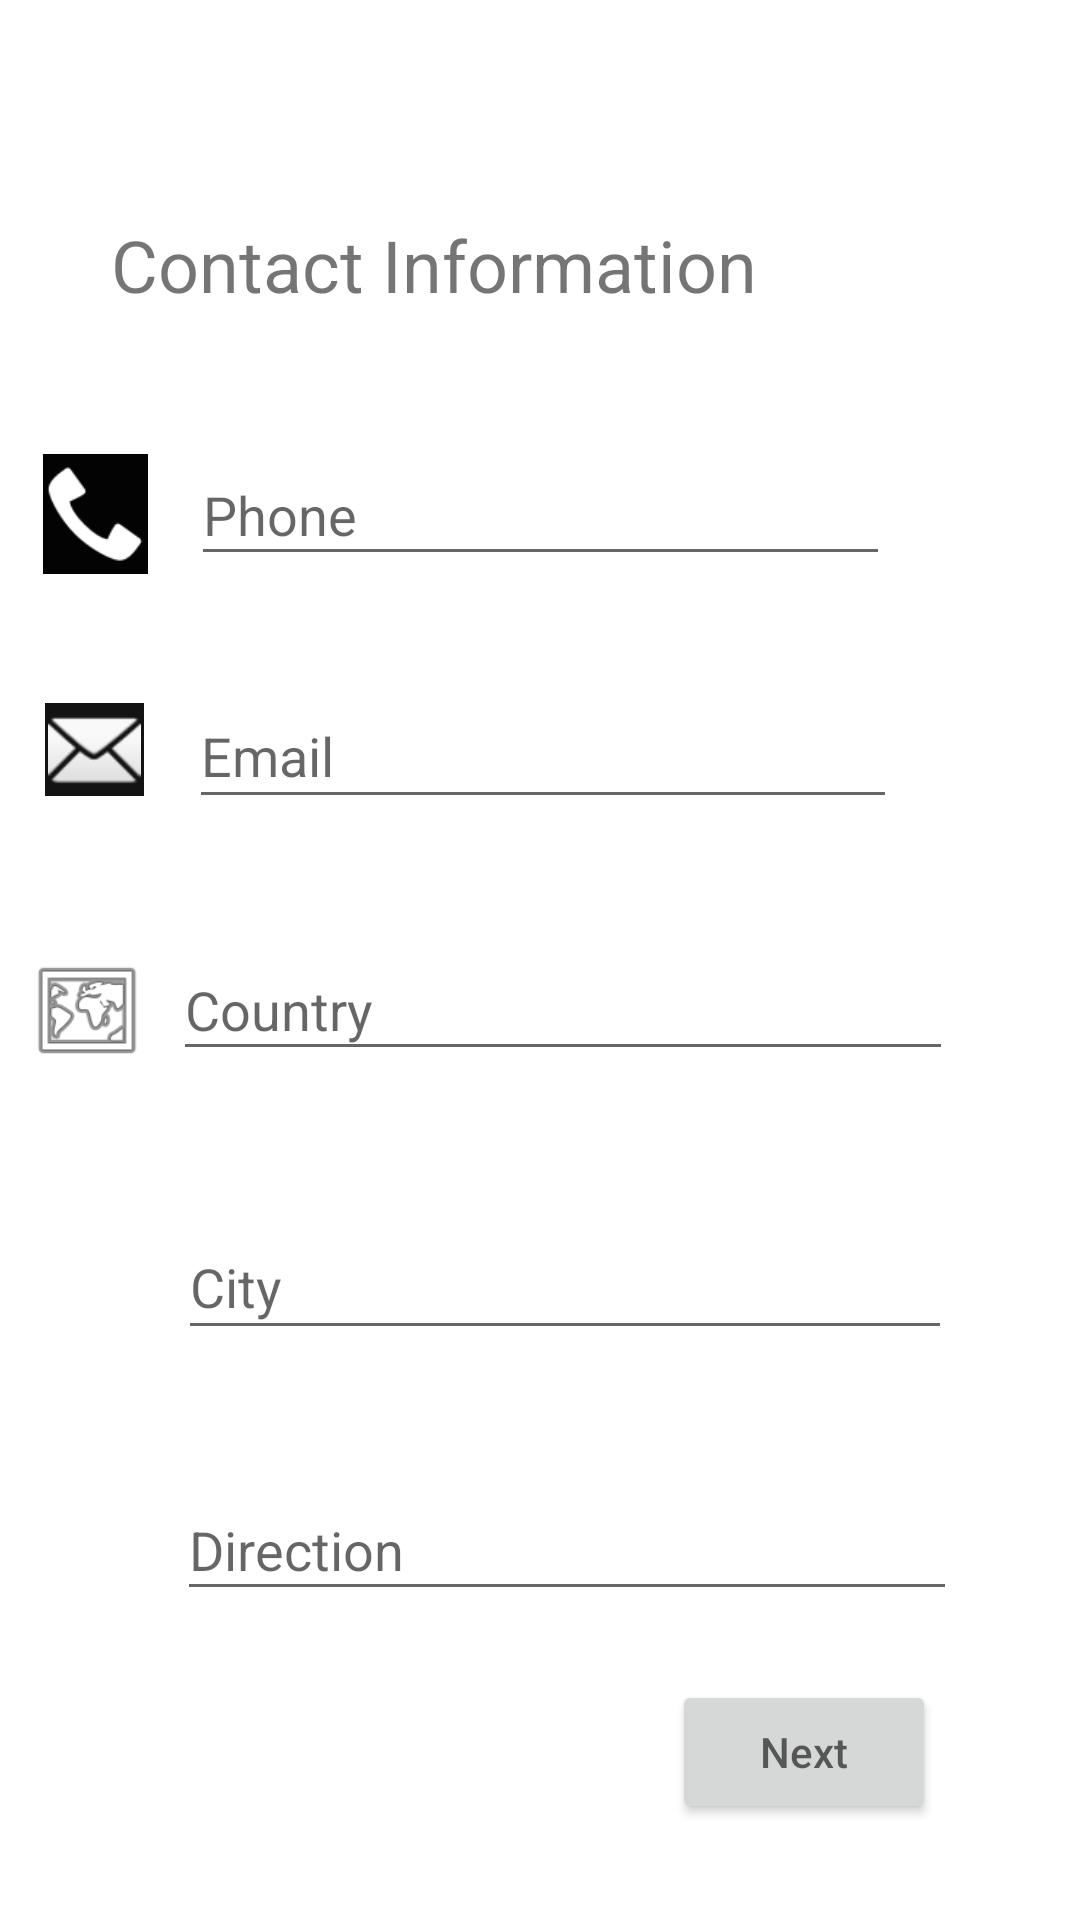

Icon click points for this 1080w x 1920h phone screenshot, format (x=x, y=y):
mapmode: (x=87, y=1010)
